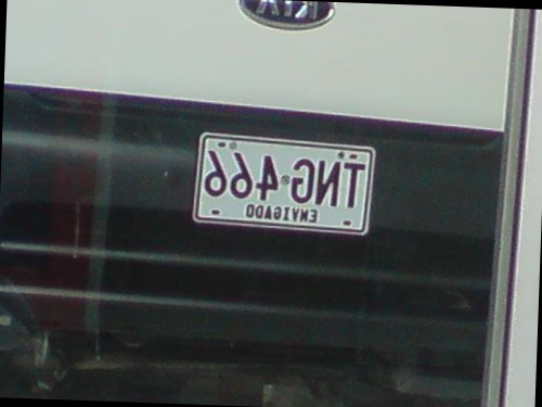placas: (190, 128, 380, 238)
